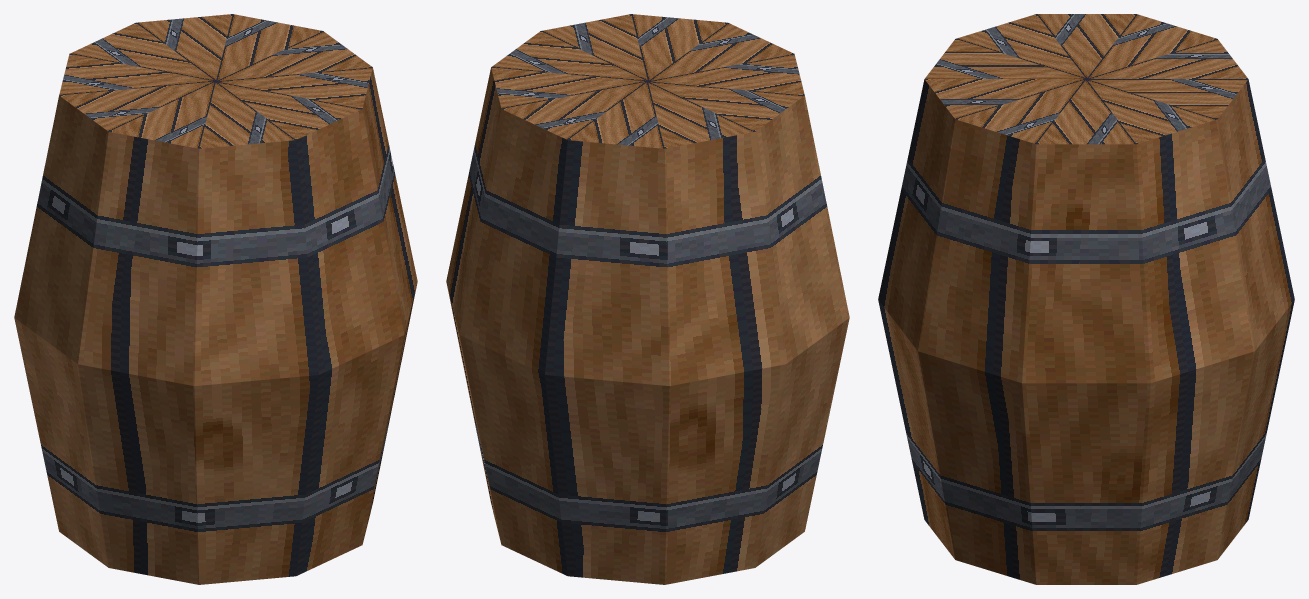
File: barril.glb
3 renders of one model, left to right at view 1: azimuth 30°, elevation 25°; view 2: azimuth 150°, elevation 25°; view 3: azimuth 270°, elevation 25°, orthographic.
Visible parts, largest first — view 1: barril; view 2: barril; view 3: barril.
Part boxes in pixels (x1,y1,x2,y2): barril: (14,14,417,584); barril: (446,14,849,584); barril: (878,14,1294,584).
Bounding box in the file's own units: 0.6848 × 0.84 × 0.72.
Materials: 1 (1 with a texture image).
